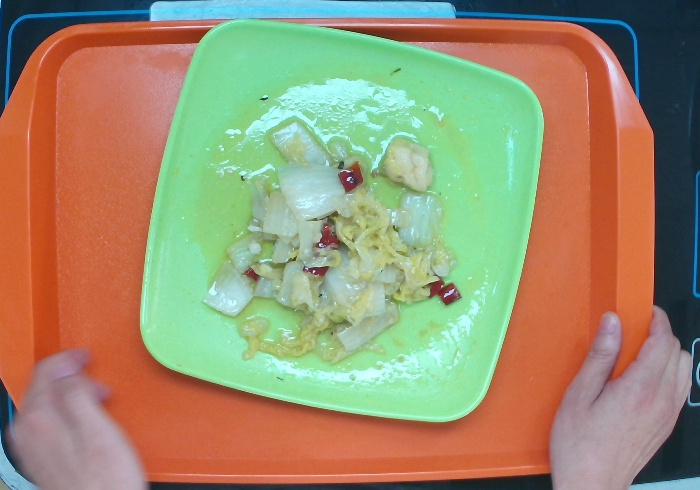ZNLD-Lv_Fang_Pan: (130, 20, 553, 431)
